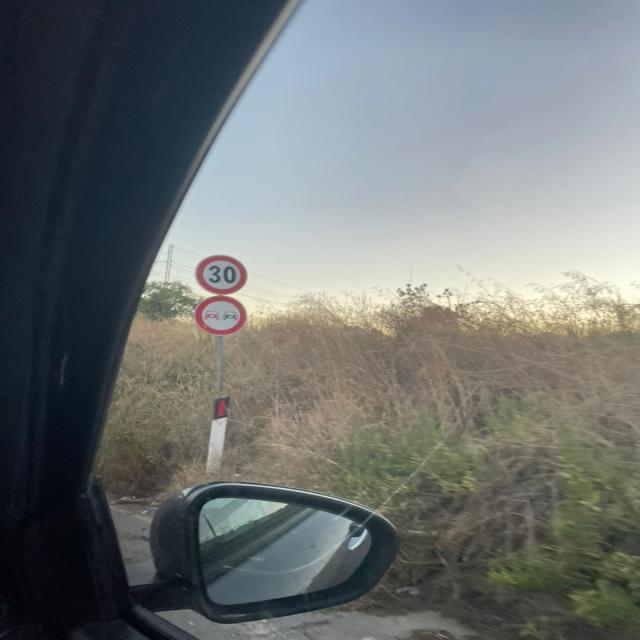forb_overtake: (194, 296, 249, 339)
forb_speed_over_30: (193, 253, 249, 294)
